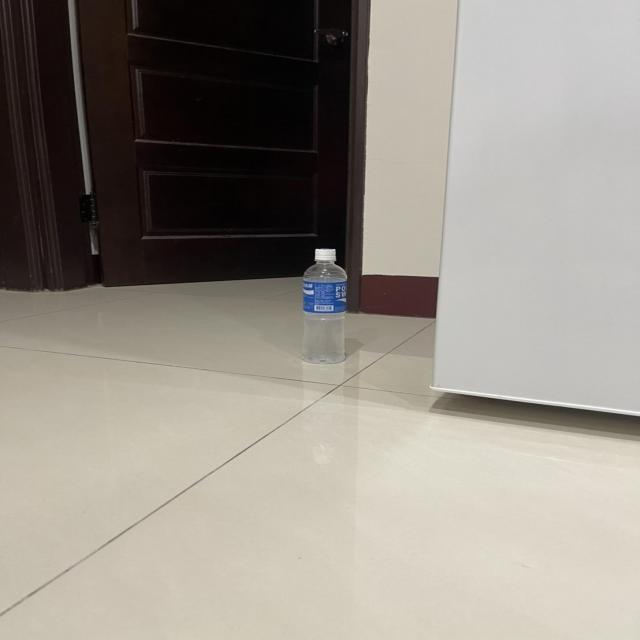bottle: (292, 253, 354, 366)
